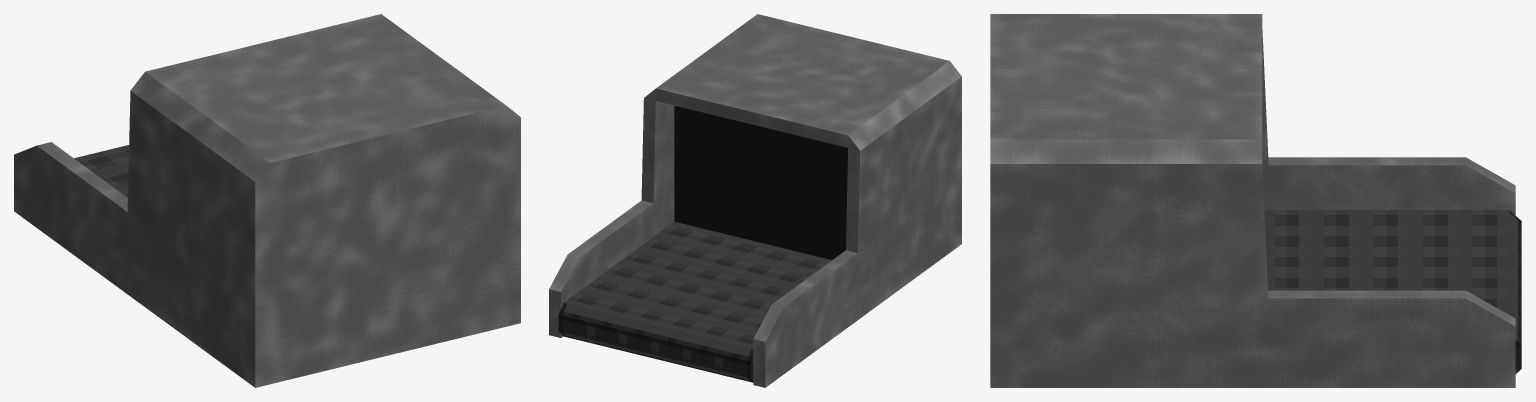
The model's file is collectionBox.gltf.
3 views of the same model, side by side, from view 1: azimuth 30°, elevation 25°; view 2: azimuth 150°, elevation 25°; view 3: azimuth 270°, elevation 25° (orthographic). The views are drawn at different scales.
Visible parts, largest first — view 1: unit, belt; view 2: unit, belt; view 3: unit, belt.
Part boxes in pixels (box(x1,y1,x2,y2)): unit: box(14, 14, 520, 387); belt: box(74, 145, 128, 197); unit: box(549, 14, 961, 387); belt: box(558, 221, 831, 382); unit: box(990, 14, 1515, 387); belt: box(1264, 210, 1521, 373).
Bounding box in the file's own units: 3.38 × 2.69 × 5.38.
2 materials, 2 textured.
